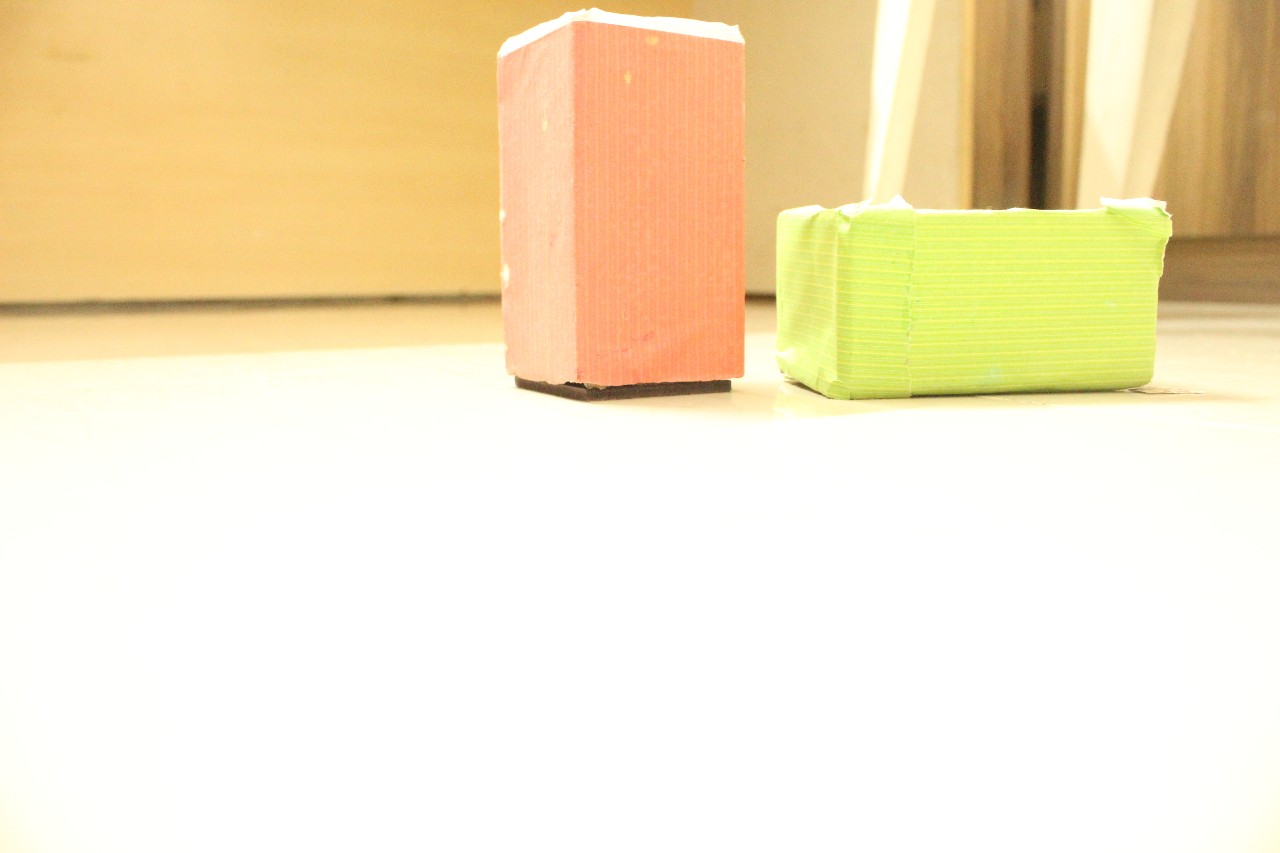green: (756, 196, 1191, 411)
red: (565, 4, 763, 418)
